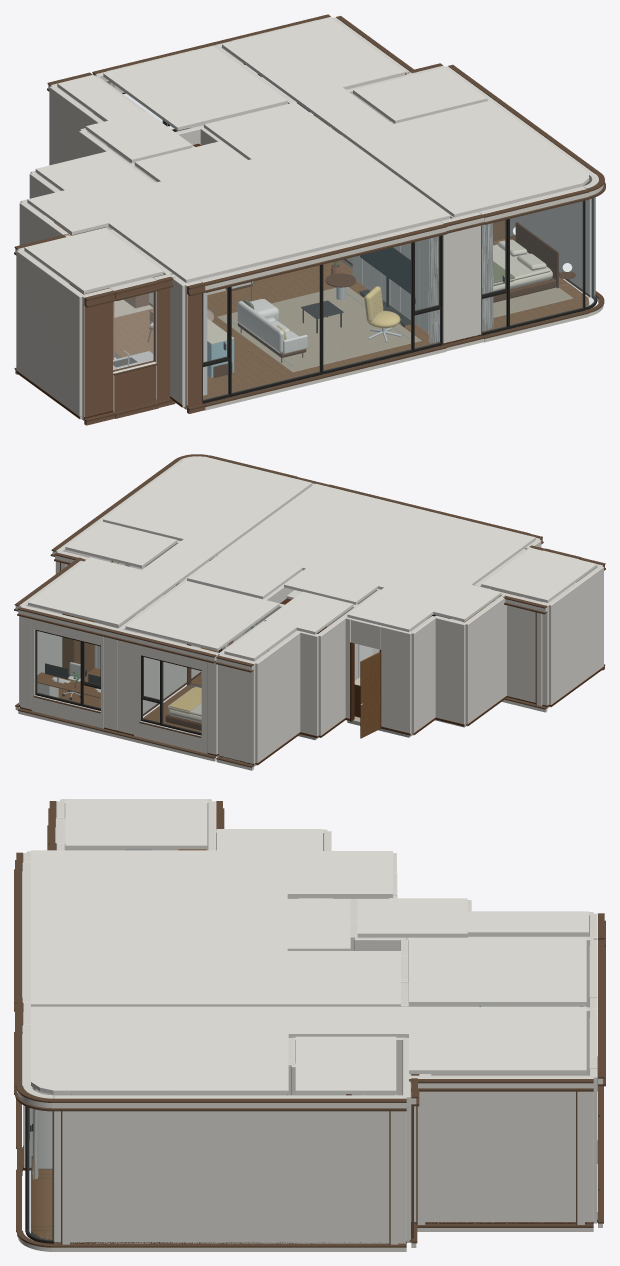
The model's file is home.glb.
The picture shows the model from 3 angles, top to bottom: view 1: azimuth 30°, elevation 25°; view 2: azimuth 150°, elevation 25°; view 3: azimuth 270°, elevation 25°; orthographic projection. The views are drawn at different scales.
Visible parts, largest first — view 1: master | ceiling, living | ceiling, dining | ceiling, 客厅落地窗 · 中央整幅固定玻璃.001, 客厅落地窗 · 中央整幅固定玻璃, guest | ceiling, study | ceiling, kitchen | wall | b-wall-11, B主卧南落地窗 · 中央整幅固定玻璃, living | decor | b-living-2dcc1b88f0, entry | ceiling, kitchen | ceiling (+43 smaller); view 2: master | ceiling, living | ceiling, dining | ceiling, guest | ceiling, study | ceiling, kitchen | wall | b-wall-11, guestbath | wall | b-wall-22, entry | wall | b-wall-15, entry | ceiling, kitchen | ceiling, guestbath | ceiling, craft | ceiling (+33 smaller); view 3: 暖白外墙面 | b-wall-43, master | ceiling, living | ceiling, 暖白外墙面 | b-wall-37, dining | ceiling, guest | ceiling, study | ceiling, guestbath | ceiling, entry | ceiling, kitchen | ceiling, craft | ceiling, bath | ceiling (+26 smaller).
Boxes of the visible parts, x1,y1,x2,y2 form: master | ceiling: (296, 87, 589, 217); living | ceiling: (180, 137, 450, 258); dining | ceiling: (79, 176, 287, 282); 客厅落地窗 · 中央整幅固定玻璃.001: (323, 243, 411, 370); 客厅落地窗 · 中央整幅固定玻璃: (232, 265, 319, 393); guest | ceiling: (103, 46, 287, 130); study | ceiling: (222, 18, 404, 101); kitchen | wall | b-wall-11: (16, 249, 82, 419); B主卧南落地窗 · 中央整幅固定玻璃: (510, 201, 583, 325); living | decor | b-living-2dcc1b88f0: (217, 287, 421, 372); entry | ceiling: (27, 151, 152, 235); kitchen | ceiling: (24, 228, 163, 293); master | ceiling: (103, 456, 312, 581); living | ceiling: (226, 483, 450, 581); dining | ceiling: (362, 516, 535, 602); guest | ceiling: (125, 581, 279, 651); study | ceiling: (28, 557, 180, 627); kitchen | wall | b-wall-11: (548, 566, 603, 707); guestbath | wall | b-wall-22: (254, 630, 300, 765); entry | wall | b-wall-15: (464, 594, 506, 726); entry | ceiling: (347, 584, 501, 632); kitchen | ceiling: (481, 548, 597, 602); guestbath | ceiling: (224, 591, 353, 660); craft | ceiling: (187, 549, 302, 599); 暖白外墙面 | b-wall-43: (54, 1111, 405, 1243); master | ceiling: (31, 1006, 408, 1094); living | ceiling: (31, 909, 287, 1006); 暖白外墙面 | b-wall-37: (411, 1091, 592, 1223); dining | ceiling: (31, 850, 287, 909); guest | ceiling: (409, 937, 586, 1005); study | ceiling: (409, 1006, 586, 1073); guestbath | ceiling: (357, 898, 588, 937); entry | ceiling: (216, 829, 392, 897); kitchen | ceiling: (65, 799, 207, 849); craft | ceiling: (287, 951, 400, 1006); bath | ceiling: (295, 1036, 396, 1094).
Bounding box in the file's own units: 13.31 × 3.18 × 10.99.
139 materials, 10 textured.
